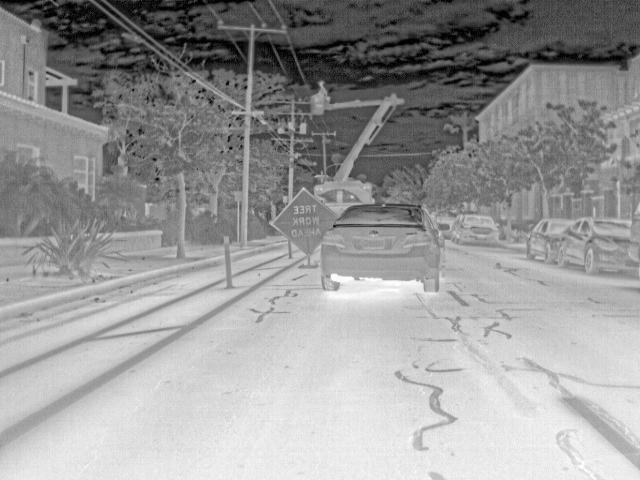car: (321, 204, 443, 292), (558, 215, 630, 274), (451, 213, 501, 245), (526, 218, 560, 264), (625, 205, 640, 279), (441, 212, 459, 238)
person: (315, 76, 328, 96)
